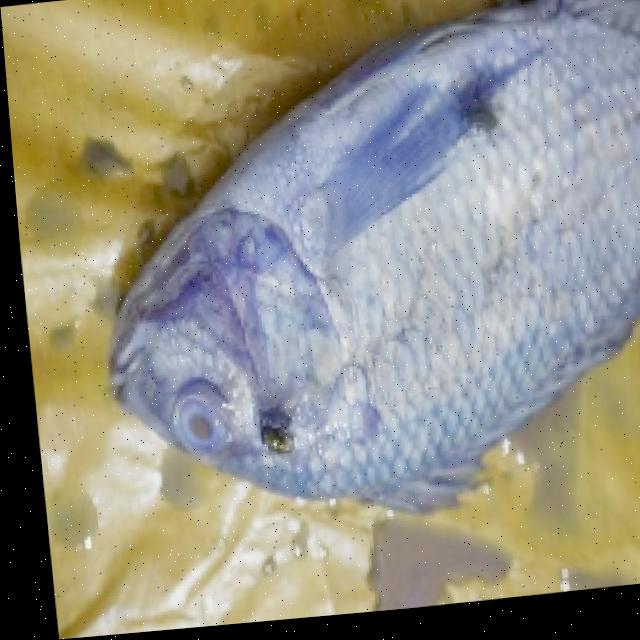Non-Fresh: (67, 17, 640, 544), (157, 375, 239, 469)
